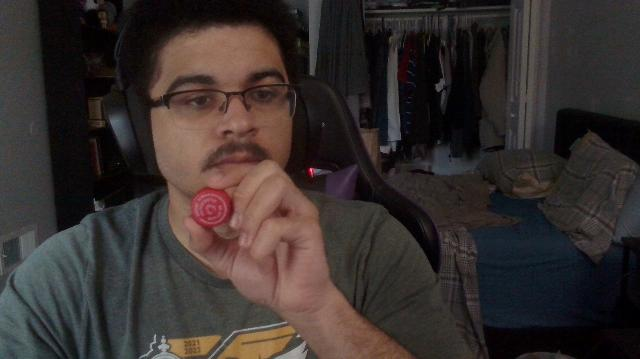cap: (190, 186, 232, 228)
